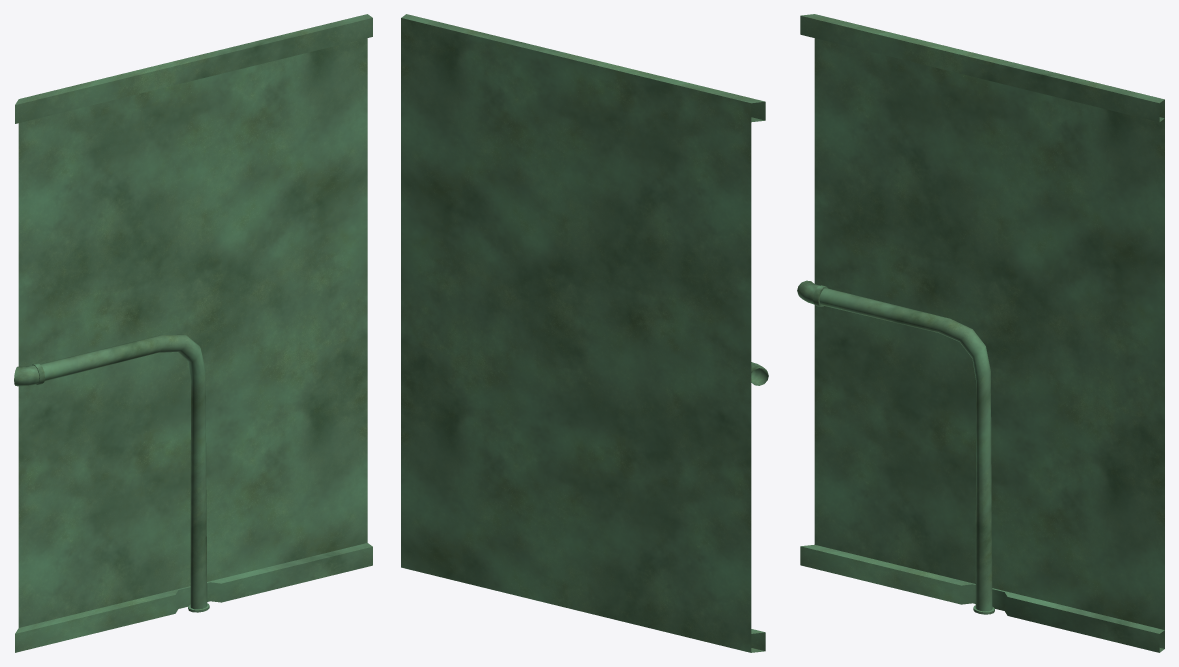
File: Wall_LowerDeck_Down_Corner2.FBX
The picture shows the model from 3 angles, left to right: view 1: azimuth 30°, elevation 25°; view 2: azimuth 150°, elevation 25°; view 3: azimuth 330°, elevation 25°; orthographic projection.
Parts seen in each view (by area): view 1: Object024; view 2: Object024; view 3: Object024.
Part boxes in pixels (x1,y1,x2,y2): Object024: [14, 14, 372, 652]; Object024: [401, 14, 768, 652]; Object024: [797, 14, 1164, 652].
Bounding box in the file's own units: 206 × 300 × 11.81.
